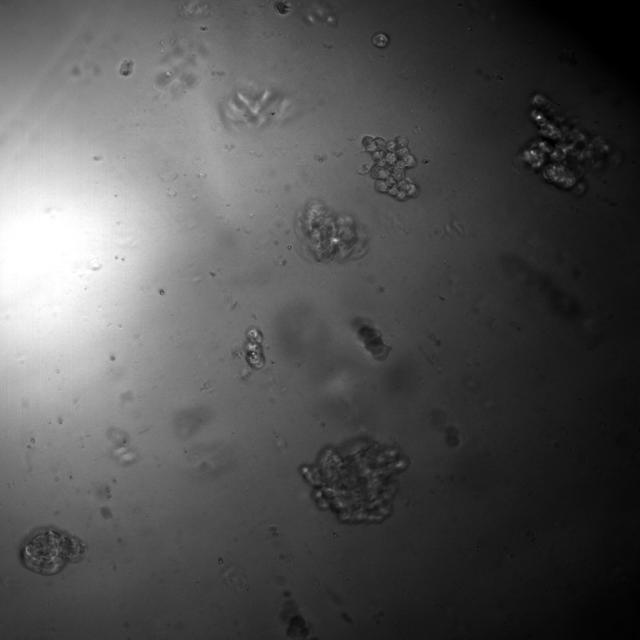organoid: (299, 438, 409, 522), (521, 94, 611, 194), (294, 200, 368, 262), (362, 136, 419, 200), (19, 527, 86, 575), (358, 326, 390, 359), (245, 326, 264, 368), (371, 31, 389, 48), (274, 0, 291, 16)
